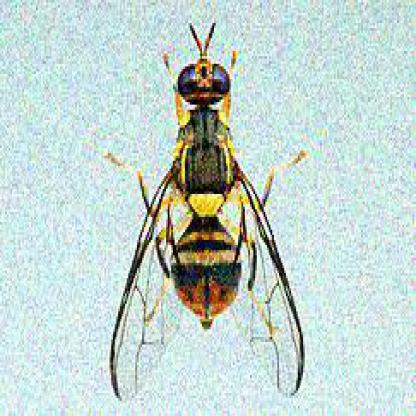fruit fly: (110, 26, 307, 410)
